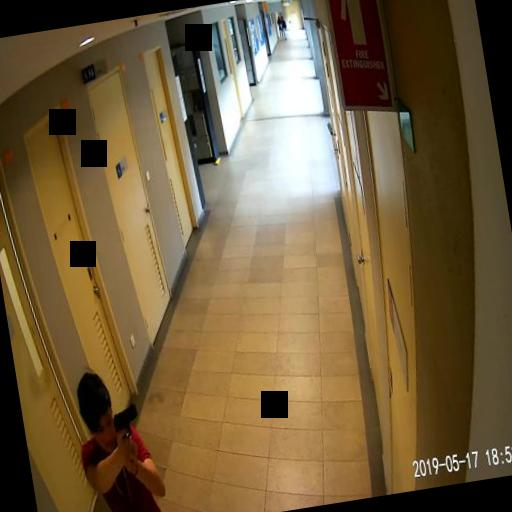Handgun: (110, 403, 140, 452)
